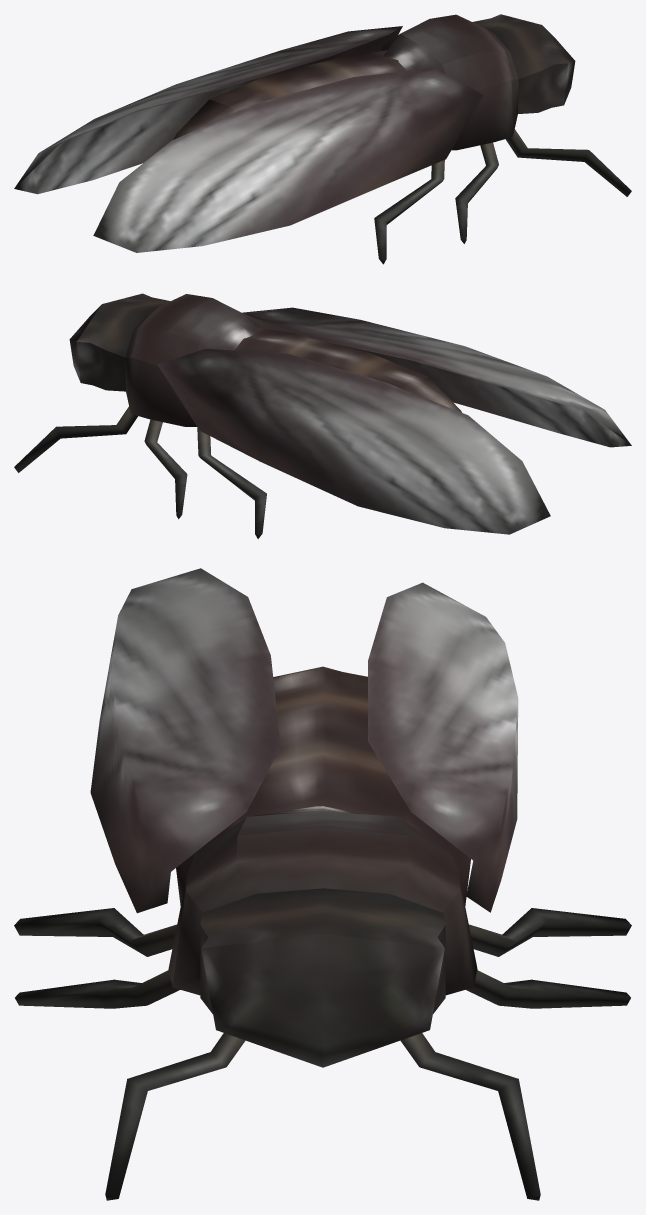
File: TianZhuJiaoTang_01_chan_01.FBX
The picture shows the model from 3 angles, top to bottom: view 1: azimuth 30°, elevation 25°; view 2: azimuth 150°, elevation 25°; view 3: azimuth 270°, elevation 25°; orthographic projection. The views are drawn at different scales.
Visible parts, largest first — view 1: TianZhuJiaoTang_01_chan_02; view 2: TianZhuJiaoTang_01_chan_02; view 3: TianZhuJiaoTang_01_chan_02.
Boxes of the visible parts, x1,y1,x2,y2 form: TianZhuJiaoTang_01_chan_02: (14,14,631,264); TianZhuJiaoTang_01_chan_02: (14,293,631,538); TianZhuJiaoTang_01_chan_02: (14,568,631,1200).
Size of the model in its own units: 90.13 by 24.62 by 50.71.
